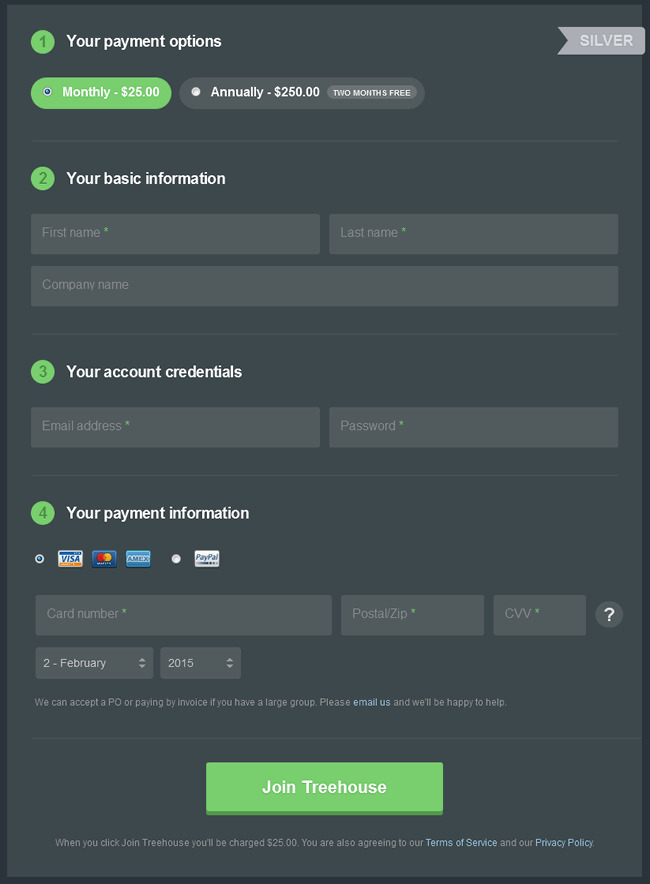_form_: (23, 68, 625, 323), (24, 389, 626, 644), (17, 571, 619, 826)
button: (205, 760, 444, 816)
field: (29, 265, 620, 308), (33, 593, 334, 638), (30, 212, 322, 257), (329, 212, 621, 257), (30, 406, 322, 450), (329, 405, 619, 449), (341, 593, 486, 638), (491, 593, 585, 636), (35, 648, 155, 681), (158, 645, 244, 681)
radio: (33, 551, 45, 565), (41, 86, 54, 98), (191, 84, 202, 98), (168, 552, 179, 565)
radio_with_label: (188, 81, 320, 99), (38, 84, 160, 100)
